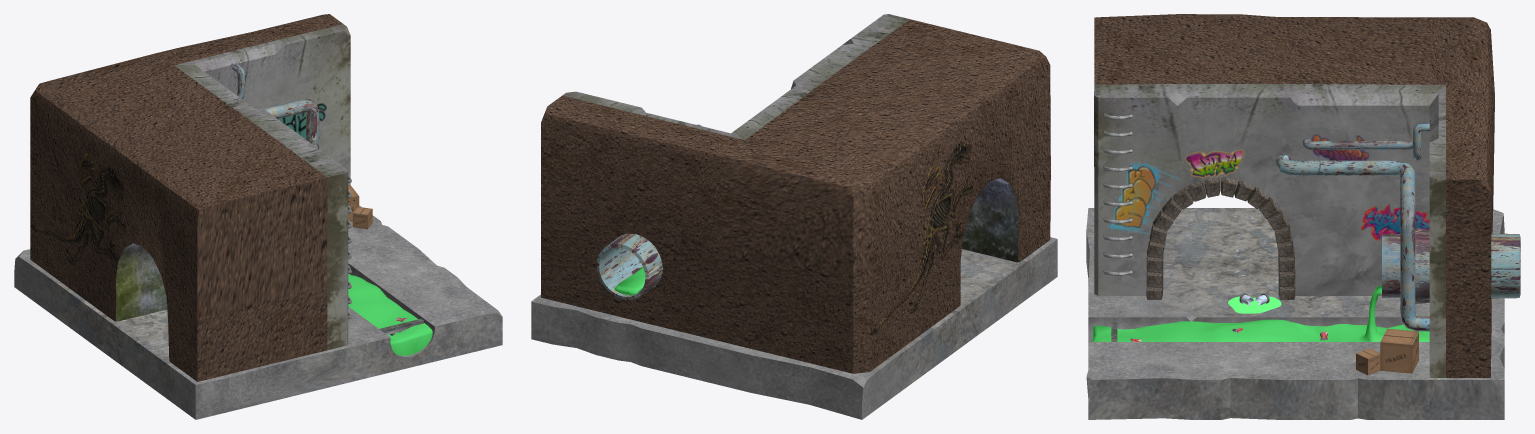
File: stinky_sewers.glb
The picture shows the model from 3 angles, left to right: view 1: azimuth 30°, elevation 25°; view 2: azimuth 150°, elevation 25°; view 3: azimuth 270°, elevation 25°; orthographic projection. The views are drawn at different scales.
Parts seen in each view (by area): view 1: walls_1, ground_0, water_11, tube.001_6; view 2: walls_1, ground_0, bigTube_7, water_11; view 3: walls_1, ground_0, water_11, wall pieces_2, tube.001_6, bigTube_7, box_3, tube_5, ladder_10, liquid_4, box.001_14.
Part boxes in pixels (bbox=[...]): walls_1: bbox=[30, 14, 350, 381]; ground_0: bbox=[14, 205, 502, 419]; water_11: bbox=[348, 274, 432, 355]; tube.001_6: bbox=[263, 99, 319, 148]; walls_1: bbox=[541, 14, 1050, 373]; ground_0: bbox=[531, 237, 1057, 419]; bigTube_7: bbox=[596, 233, 662, 299]; water_11: bbox=[614, 267, 645, 295]; walls_1: bbox=[1094, 14, 1494, 377]; ground_0: bbox=[1086, 208, 1504, 419]; water_11: bbox=[1092, 285, 1429, 341]; wall pieces_2: bbox=[1146, 177, 1295, 299]; tube.001_6: bbox=[1276, 155, 1429, 331]; bigTube_7: bbox=[1382, 228, 1520, 303]; box_3: bbox=[1380, 328, 1418, 373]; tube_5: bbox=[1302, 123, 1429, 160]; ladder_10: bbox=[1103, 113, 1132, 275]; liquid_4: bbox=[1228, 296, 1281, 313]; box.001_14: bbox=[1356, 348, 1380, 375].
Bounding box in the file's own units: 17.95 × 11.77 × 19.16.
Materials: 6 (6 with a texture image).
